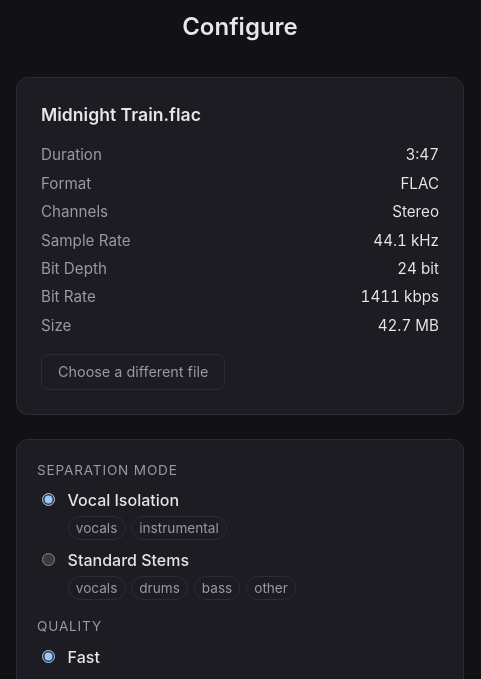
Test: AudioSummary › choose a different file resets to select and deletes the upload
Click the button "Choose a different file" at {"x": 133, "y": 372}, box [41,354,225,390]
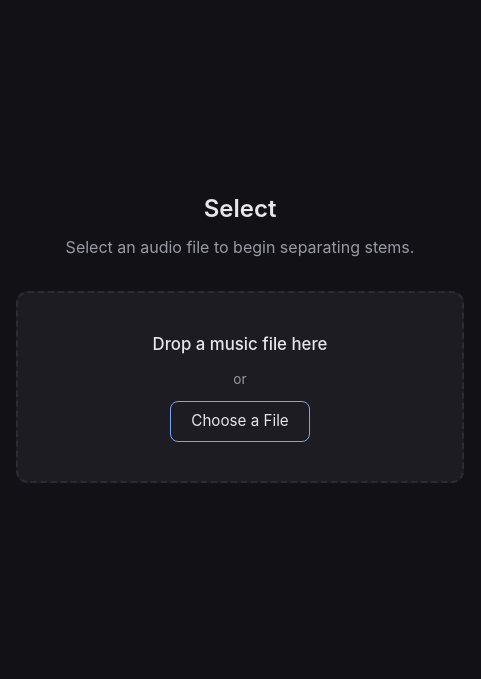
Expected: the text "Select" is shown, [204,191,276,227]
Expected: the text "Drop a music file here" is shown, [152,332,327,357]
Expected: the heading "Midnight Train.flac" is gone
